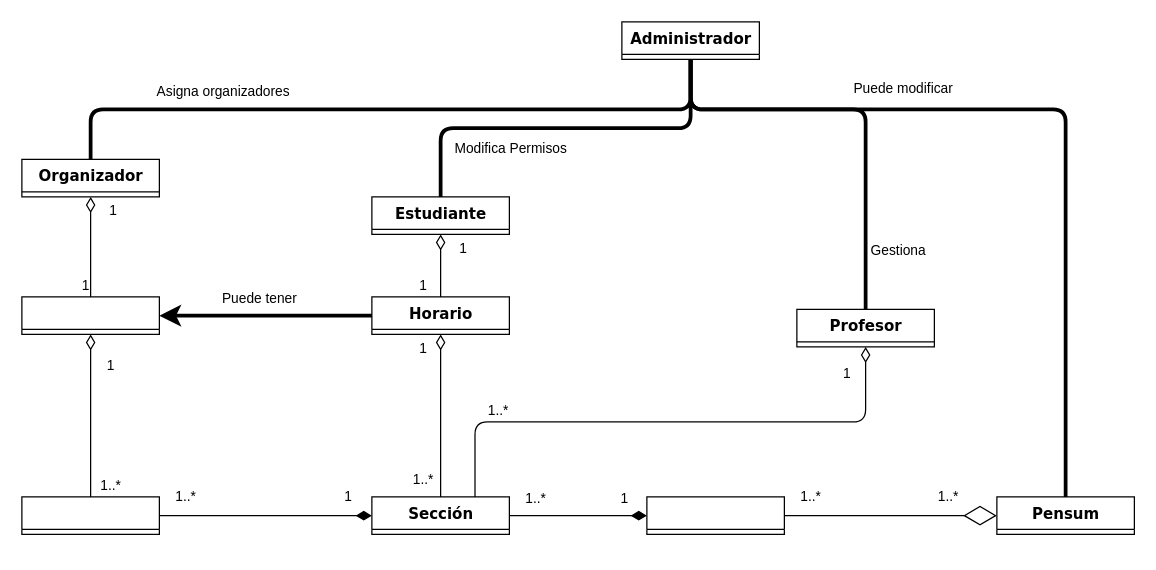
Some shapes in this 1156 by 570 pixel diagram are drawn without their labels. The box of each missing label's shape, as (x1, y1, x2, y2) in pixels:
Bloque de Hora: (21, 496, 159, 534)
Evento: (21, 296, 159, 334)
Materia: (646, 496, 784, 534)
